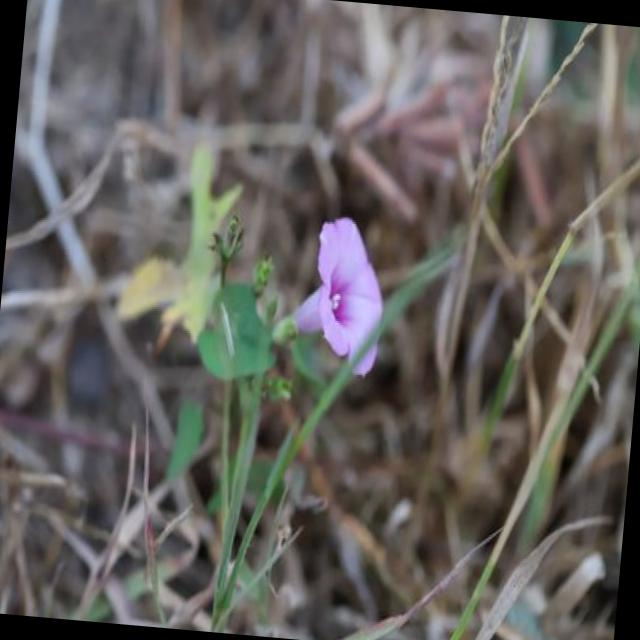ipomoea: (284, 207, 396, 384)
